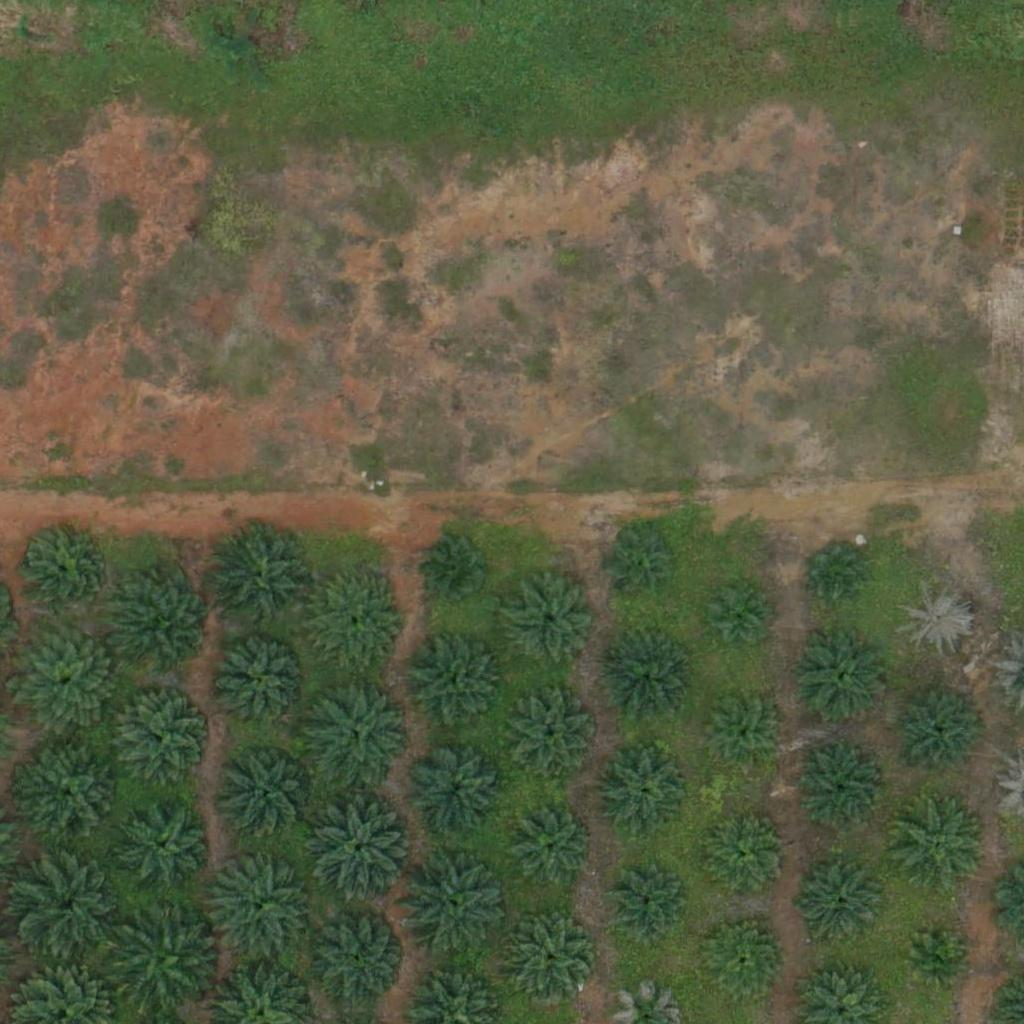Kelapa_Sawit: (11, 625, 124, 739), (15, 737, 128, 851), (112, 901, 225, 1015), (399, 848, 512, 961), (202, 851, 314, 965), (15, 852, 127, 965), (206, 522, 318, 635), (306, 792, 418, 905), (114, 577, 214, 678), (215, 636, 315, 737), (217, 742, 317, 843), (308, 574, 408, 675), (310, 680, 410, 781), (404, 632, 504, 733), (407, 740, 507, 841), (501, 570, 601, 671), (114, 686, 214, 786), (117, 797, 217, 897), (309, 908, 409, 1008), (793, 628, 893, 728), (892, 682, 992, 782), (892, 796, 992, 896), (509, 694, 597, 783), (699, 918, 787, 1007), (603, 637, 691, 725), (600, 750, 688, 838), (702, 816, 790, 904), (18, 525, 105, 613), (506, 808, 593, 896), (509, 918, 596, 1006), (798, 745, 885, 833), (797, 861, 884, 949), (899, 581, 974, 657), (705, 700, 780, 775), (609, 868, 684, 943), (610, 533, 673, 596), (707, 580, 770, 643), (427, 535, 490, 598), (907, 931, 970, 994), (803, 541, 865, 603)
